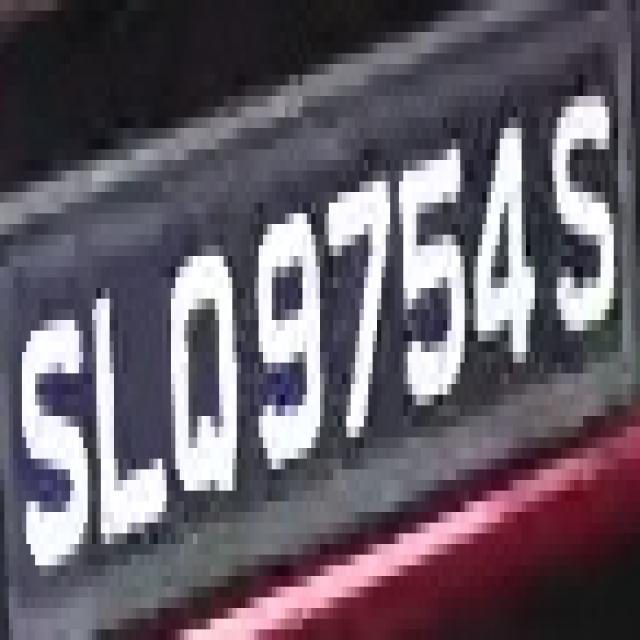4: (460, 96, 539, 427)
5: (386, 117, 469, 395)
7: (316, 150, 394, 470)
9: (245, 160, 329, 512)
L: (83, 256, 162, 544)
Q: (149, 235, 241, 554)
S: (535, 42, 627, 394), (4, 277, 92, 587)
